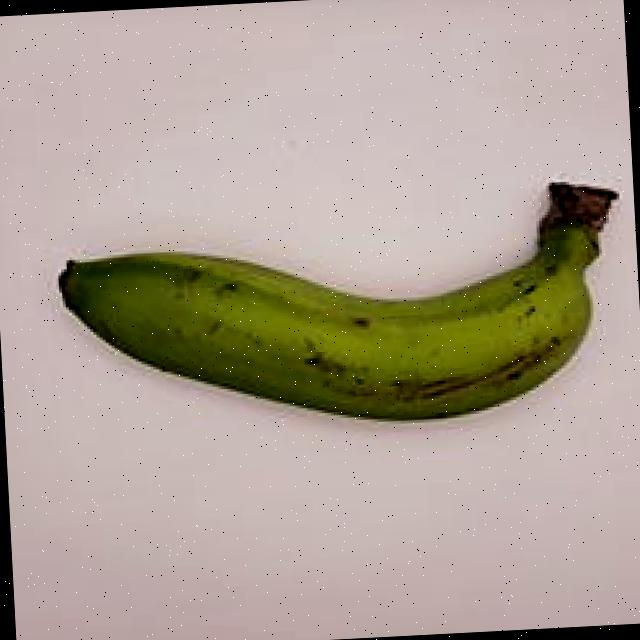Raw: (40, 142, 640, 445)
